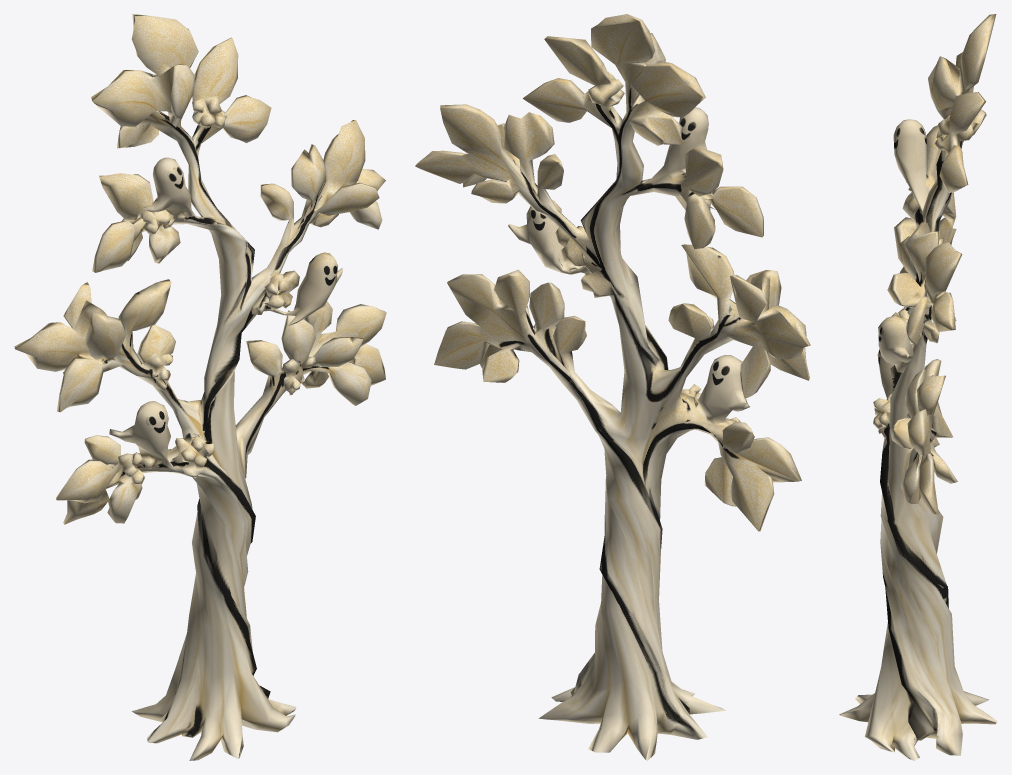
The model's file is AW-HW-TREE-004-v0.2.glb.
The picture shows the model from 3 angles, left to right: view 1: azimuth 30°, elevation 25°; view 2: azimuth 150°, elevation 25°; view 3: azimuth 270°, elevation 25°; orthographic projection. The views are drawn at different scales.
Visible parts, largest first — view 1: AW-HW-TREE-004_meter_ground_pivot; view 2: AW-HW-TREE-004_meter_ground_pivot; view 3: AW-HW-TREE-004_meter_ground_pivot.
Part boxes in pixels (left/top/right/bottom): AW-HW-TREE-004_meter_ground_pivot: left=14, top=14, right=386, bottom=760; AW-HW-TREE-004_meter_ground_pivot: left=415, top=14, right=810, bottom=760; AW-HW-TREE-004_meter_ground_pivot: left=839, top=14, right=997, bottom=760.
Size of the model in its own units: 3.07 by 5.5 by 1.14.
Materials: 1 (1 with a texture image).
